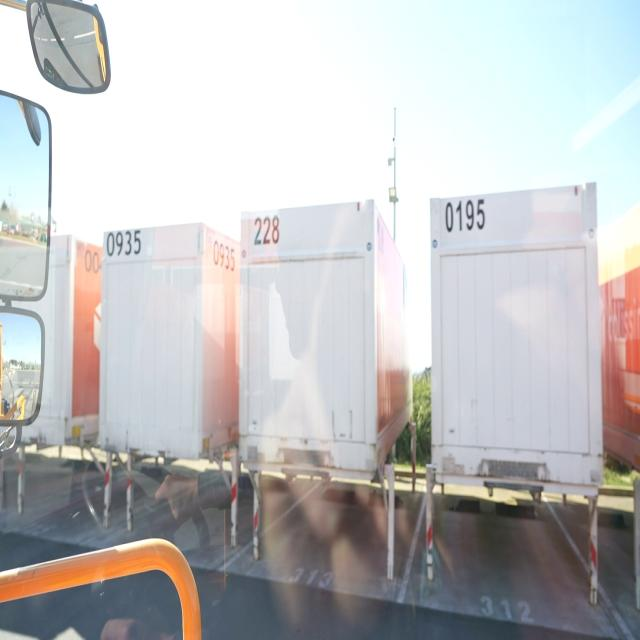Code: (439, 188, 488, 236), (248, 210, 290, 254), (210, 231, 242, 281), (102, 224, 146, 260)
